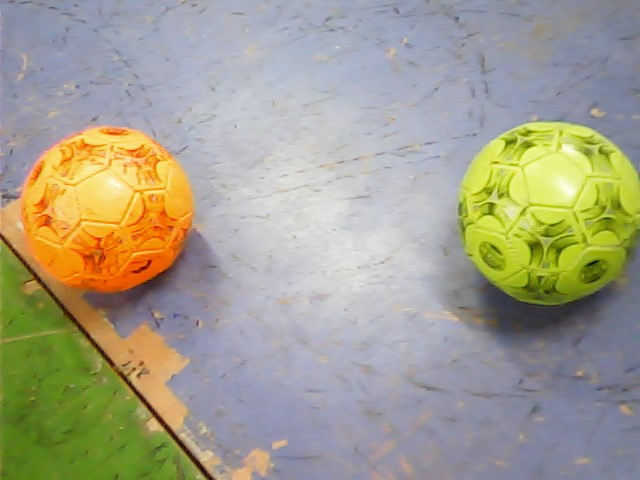Green_ball: (457, 119, 640, 310)
Orange_ball: (20, 126, 202, 295)
